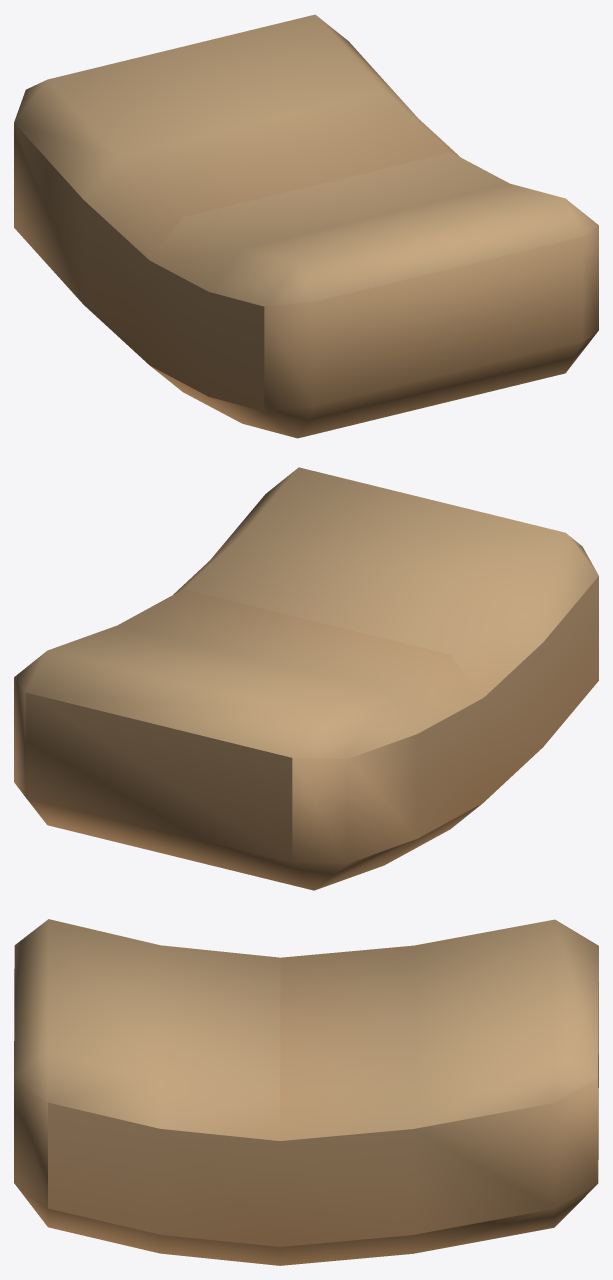
Rendered from sack.glb.
3 renders of one model, top to bottom at view 1: azimuth 30°, elevation 25°; view 2: azimuth 150°, elevation 25°; view 3: azimuth 270°, elevation 25°, orthographic.
Visible parts, largest first — view 1: sack; view 2: sack; view 3: sack.
Boxes of the visible parts, x1,y1,x2,y2 form: sack: (14, 14, 598, 438); sack: (14, 467, 598, 890); sack: (14, 919, 598, 1265).
Size of the model in its own units: 0.1065 by 0.0647 by 0.1595.
